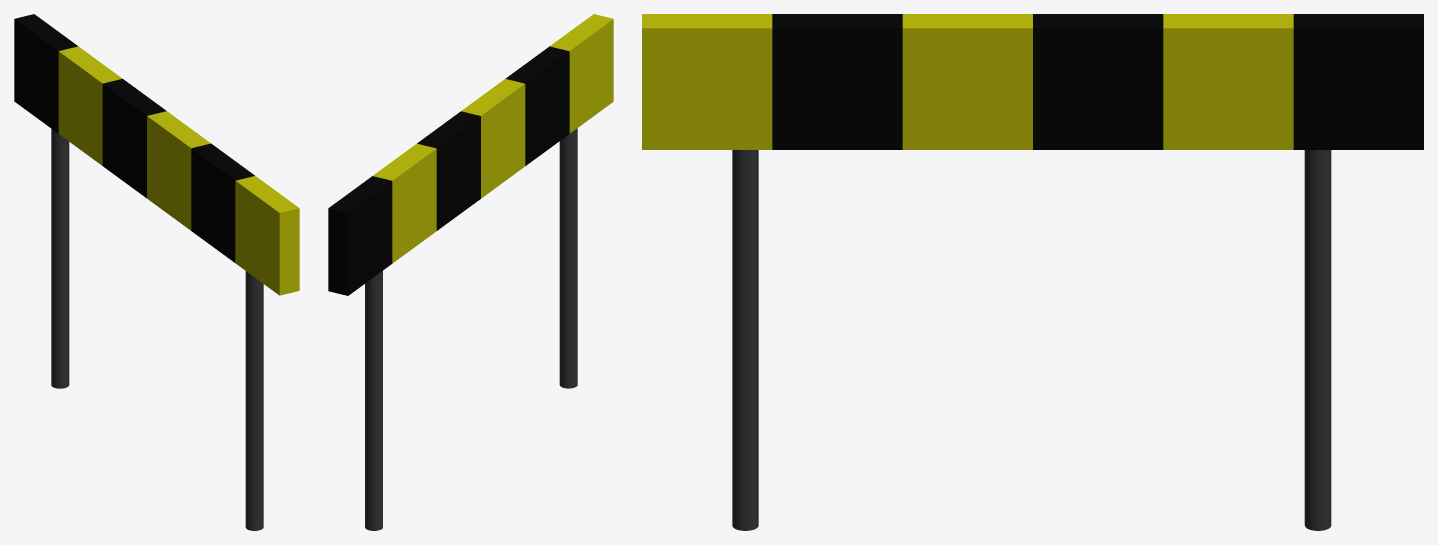
The model's file is trafficcontrol.fbx.
The picture shows the model from 3 angles, left to right: view 1: azimuth 30°, elevation 25°; view 2: azimuth 150°, elevation 25°; view 3: azimuth 270°, elevation 25°; orthographic projection. The views are drawn at different scales.
Parts seen in each view (by area): view 1: trafficcontrol; view 2: trafficcontrol; view 3: trafficcontrol.
Boxes of the visible parts, x1,y1,x2,y2 form: trafficcontrol: [14, 14, 299, 530]; trafficcontrol: [328, 14, 613, 530]; trafficcontrol: [642, 14, 1423, 530].
Size of the model in its own units: 0.1318 by 2.16 by 3.03.
